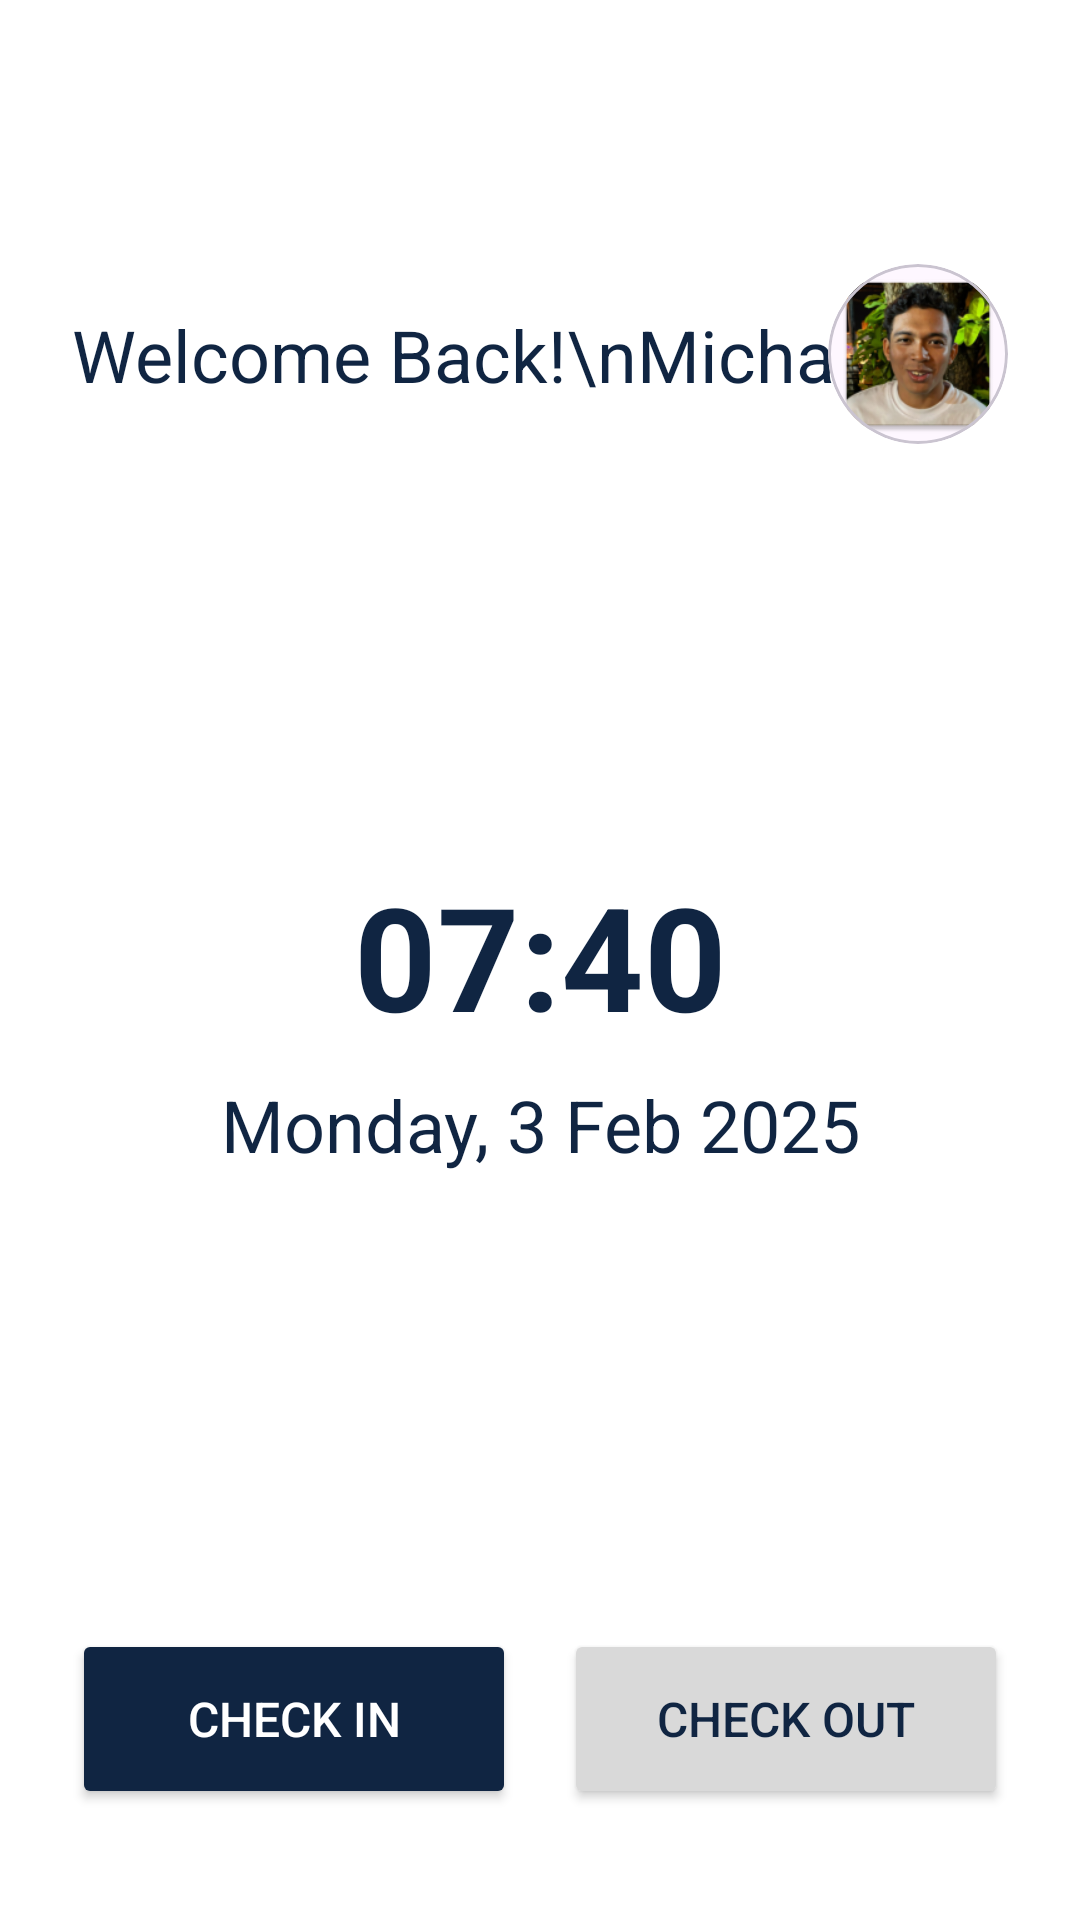

Named icons in this screenshot (1080*1920) and their bounding boxes, {"x1": x1, "y1": y1, "x2": x2, "y2": y2}:
profile pic: {"x1": 828, "y1": 264, "x2": 1008, "y2": 444}
